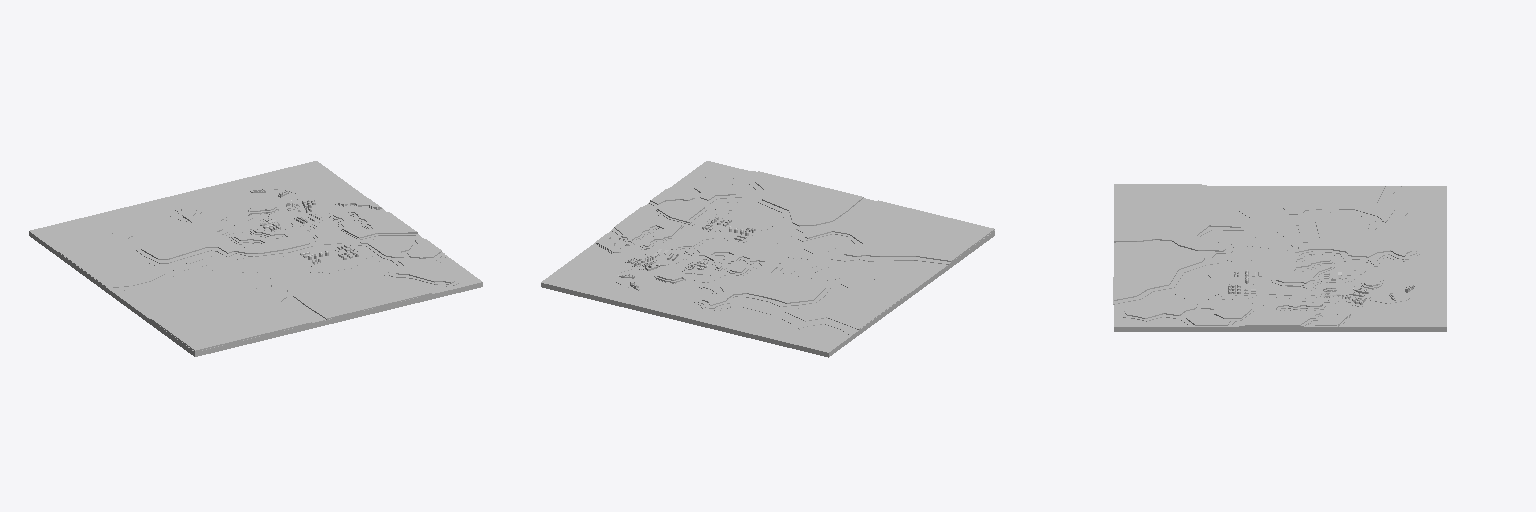
The model's file is suape_clean.obj.
3 views of the same model, side by side, from view 1: azimuth 30°, elevation 25°; view 2: azimuth 150°, elevation 25°; view 3: azimuth 270°, elevation 25° (orthographic).
Parts seen in each view (by area): view 1: mapa_real_mar_Cap_174.000, porto_cobertura_doca_1_caixas_23_Cube14.000, porto_petroquicmica_tubor_12_Cylinder8.000; view 2: mapa_real_mar_Cap_174.000, porto_cobertura_doca_1_caixas_23_Cube14.000, porto_petroquicmica_tubor_12_Cylinder8.000; view 3: mapa_real_mar_Cap_174.000, porto_petroquicmica_tubor_12_Cylinder8.000, porto_cobertura_doca_1_caixas_23_Cube14.000.
Part boxes in pixels (left/top/right/bottom): mapa_real_mar_Cap_174.000: left=29, top=161, right=482, bottom=356; porto_cobertura_doca_1_caixas_23_Cube14.000: left=250, top=188, right=358, bottom=264; porto_petroquicmica_tubor_12_Cylinder8.000: left=173, top=207, right=309, bottom=288; mapa_real_mar_Cap_174.000: left=541, top=161, right=994, bottom=357; porto_cobertura_doca_1_caixas_23_Cube14.000: left=618, top=217, right=755, bottom=290; porto_petroquicmica_tubor_12_Cylinder8.000: left=645, top=234, right=841, bottom=280; mapa_real_mar_Cap_174.000: left=1113, top=184, right=1446, bottom=331; porto_petroquicmica_tubor_12_Cylinder8.000: left=1214, top=219, right=1349, bottom=299; porto_cobertura_doca_1_caixas_23_Cube14.000: left=1228, top=270, right=1414, bottom=304.
Size of the model in its own units: 12.19 by 0.4389 by 12.19.